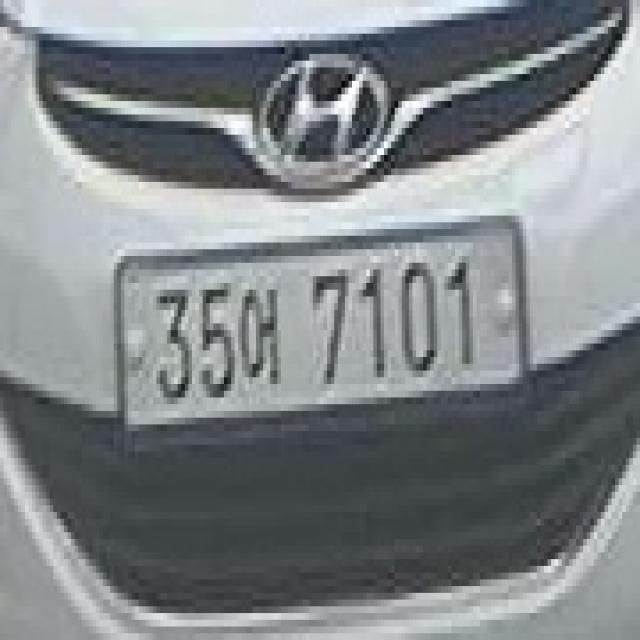0: (398, 263, 438, 384)
1: (444, 256, 470, 371), (363, 269, 384, 384)
3: (153, 276, 192, 404)
5: (196, 283, 234, 404)
7: (310, 276, 348, 391)
eo: (238, 283, 281, 391)
license_plate: (114, 209, 533, 438)
